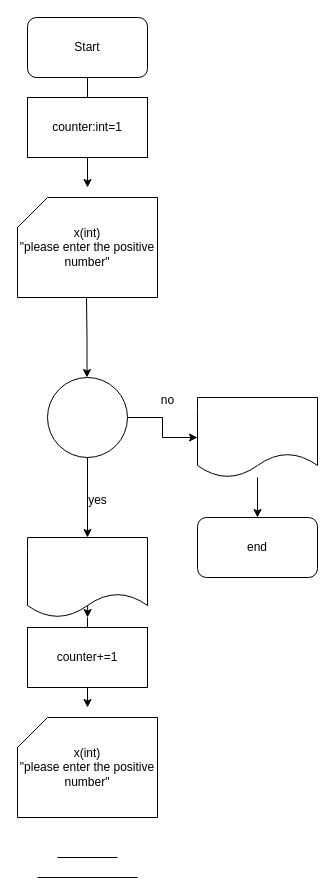
Image size: 335x896. Some labels were removed from this diagram. The centre of each missing label's shape, as x and y in pixels:
"this number is negative": (x=87, y=577)
finish: (x=257, y=437)
while x<=0: (x=87, y=417)
